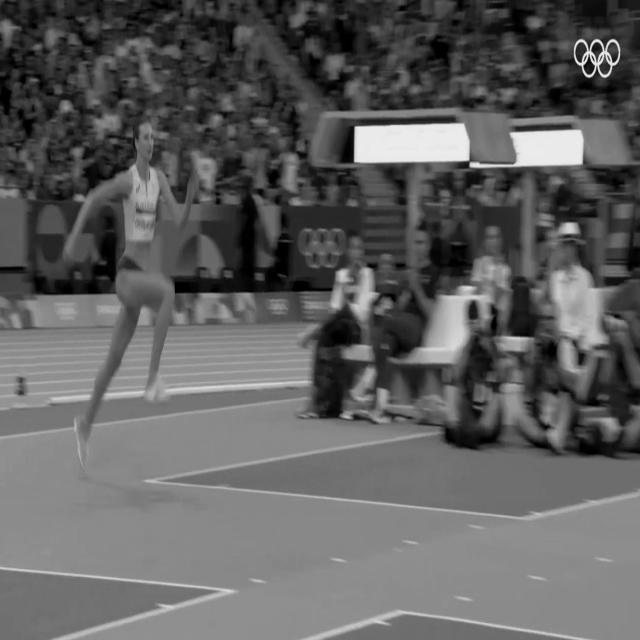run: (63, 113, 198, 474)
